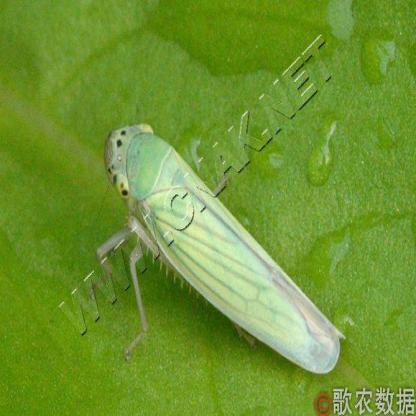Green-Leafhopper: (98, 120, 356, 372)
